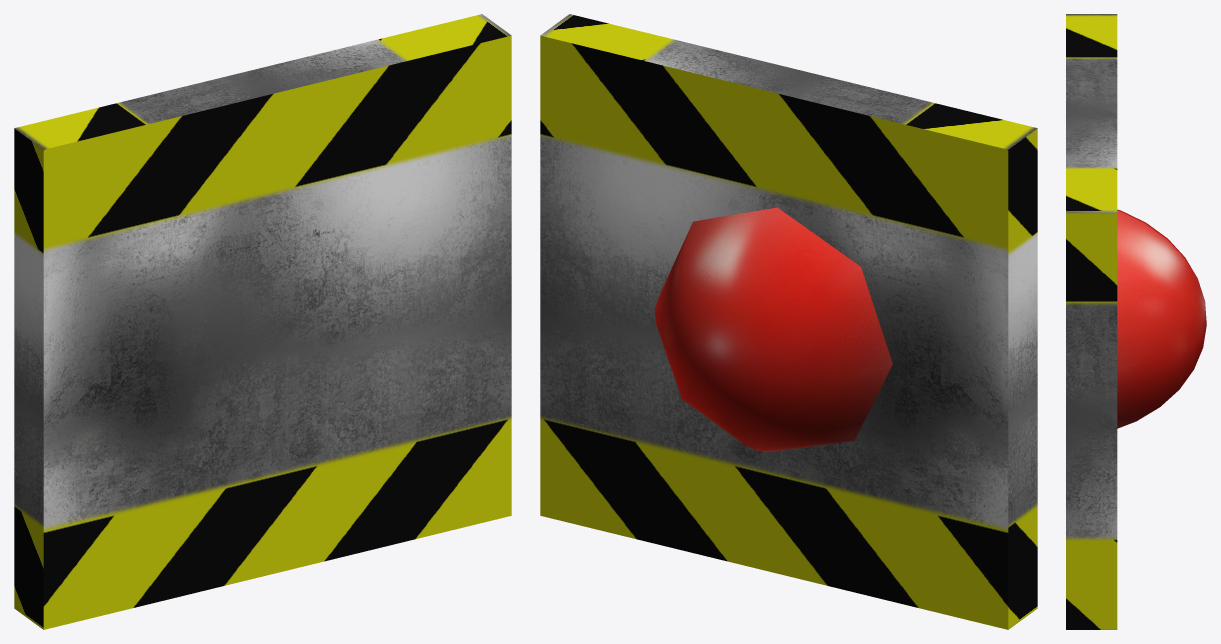
Rendered from big_button_danger.glb.
The picture shows the model from 3 angles, left to right: view 1: azimuth 30°, elevation 25°; view 2: azimuth 150°, elevation 25°; view 3: azimuth 270°, elevation 25°; orthographic projection. The views are drawn at different scales.
Parts seen in each view (by area): view 1: plate; view 2: plate, button; view 3: plate, button.
Part boxes in pixels (bbox=[...]): plate: bbox=[14, 14, 511, 629]; plate: bbox=[540, 14, 1037, 629]; button: bbox=[654, 207, 892, 451]; plate: bbox=[1066, 14, 1117, 629]; button: bbox=[1117, 209, 1206, 428].
Bounding box in the file's own units: 2.96 × 2.9 × 0.8861.
Materials: 2 (2 with a texture image).
